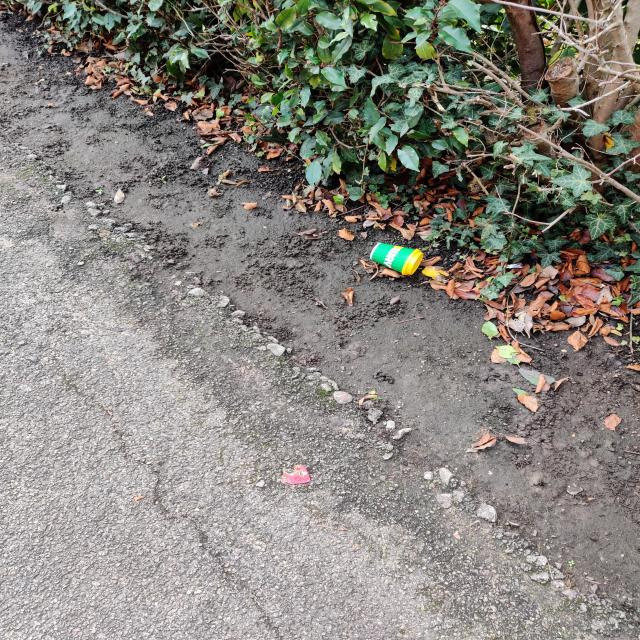litter: (368, 244, 421, 273)
